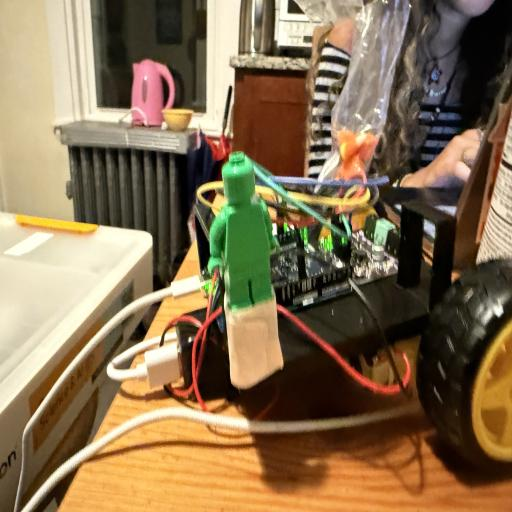Minifig: (208, 152, 275, 310)
